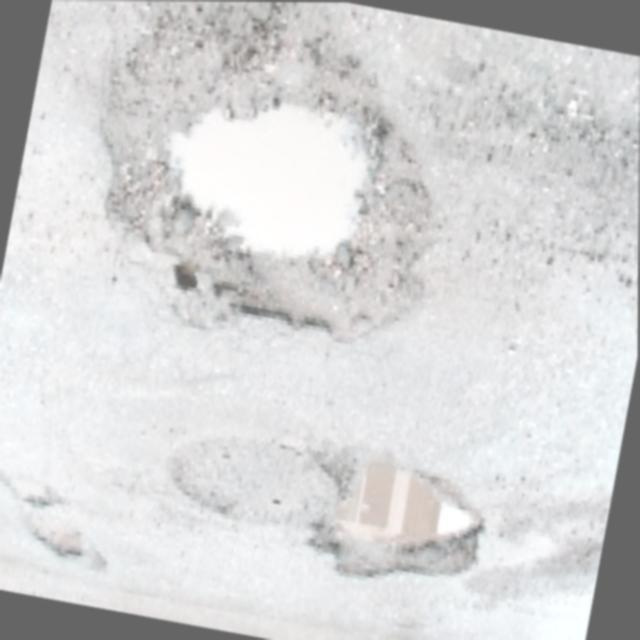pothole: (101, 39, 452, 358), (294, 439, 498, 615)
